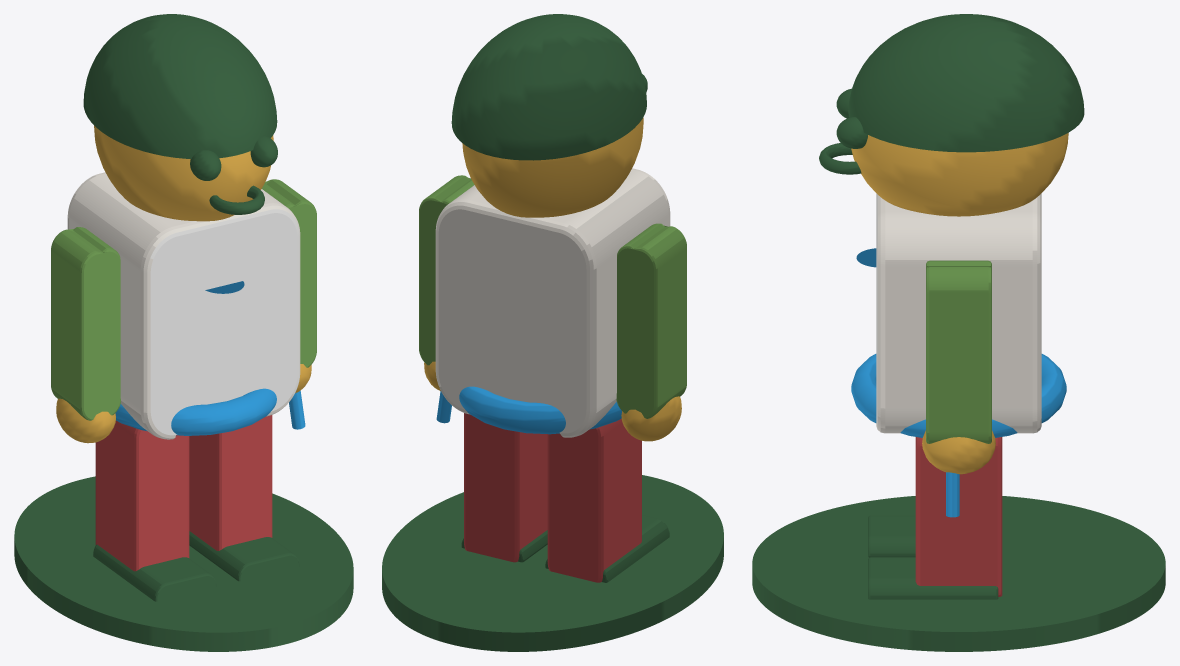
3 views of the same model, side by side, from view 1: azimuth 30°, elevation 25°; view 2: azimuth 150°, elevation 25°; view 3: azimuth 270°, elevation 25° (orthographic). The views are drawn at different scales.
Visible parts, largest first — view 1: card_1115; view 2: card_1115; view 3: card_1115.
Boxes of the visible parts, left/top/right/bottom form: card_1115: left=14, top=14, right=353, bottom=651; card_1115: left=382, top=14, right=723, bottom=651; card_1115: left=752, top=14, right=1165, bottom=651.
Size of the model in its own units: 0.5268 by 1 by 0.6677.
